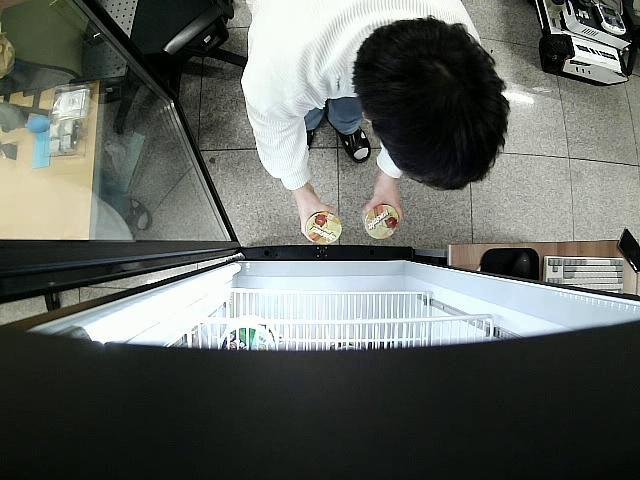04_chapagetti_S: (364, 204, 398, 240), (305, 213, 342, 246)
